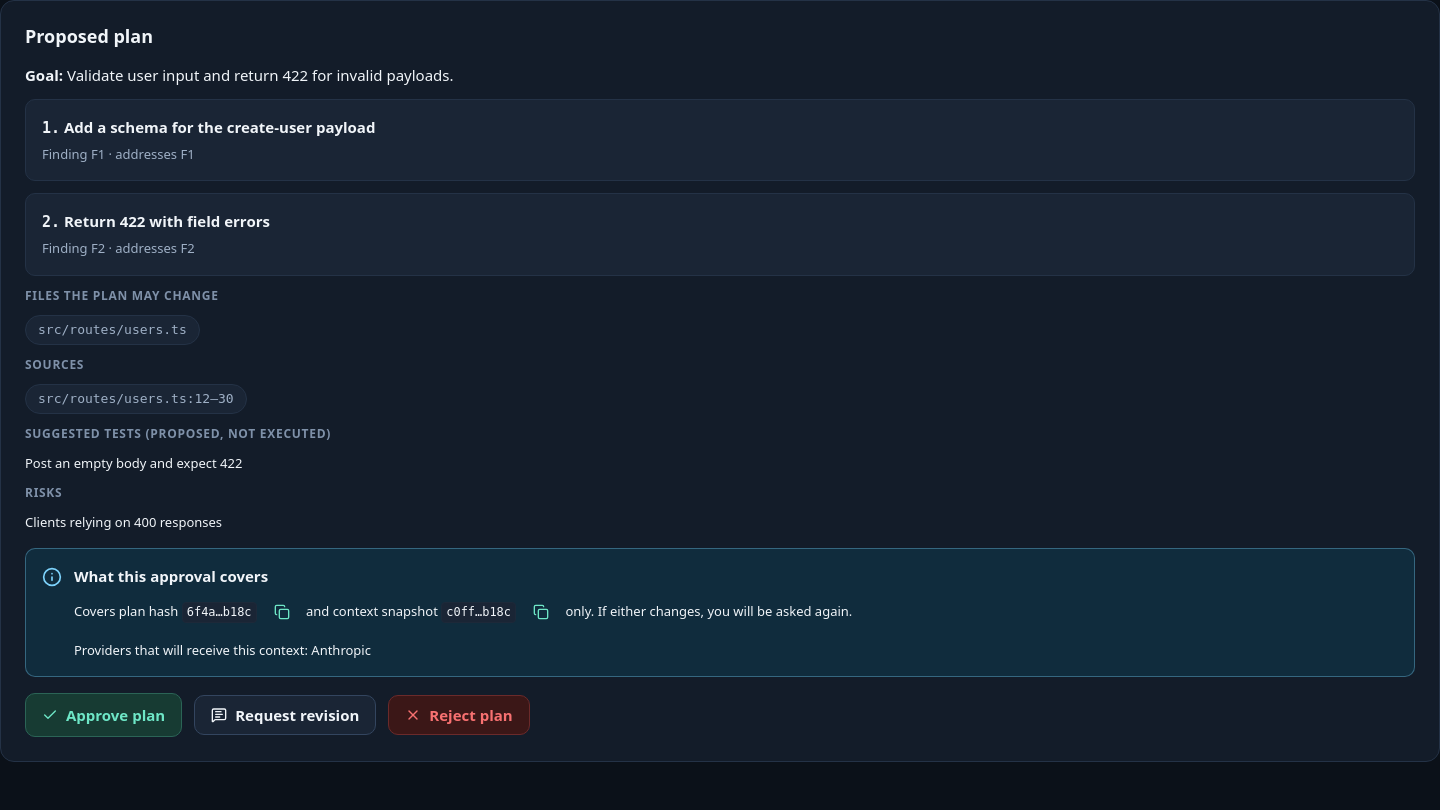
Scenario: ApprovalCard › shows the revision note in the revision form and ties it to the submit button
The image size is (1440, 810).
Expected: the text "Revision 2 of 3" is not shown
Click the button "Request revision" at coordinates (285, 716), box top-left (194, 696), bottom-right (376, 736)
(page scrolled)
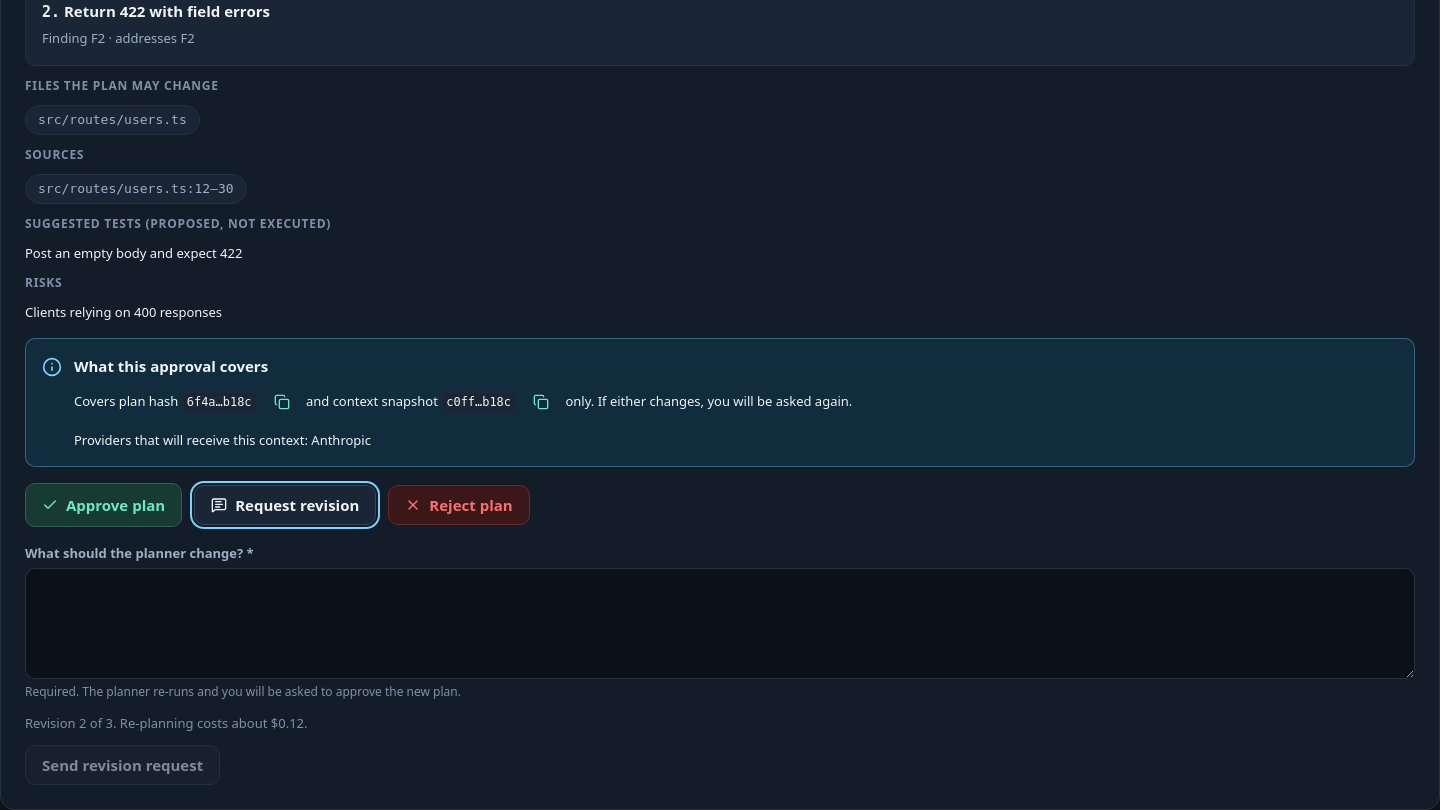
Expected: the text "Revision 2 of 3. Re-planning costs about $0.12." is shown, top-left (25, 714), bottom-right (308, 732)
